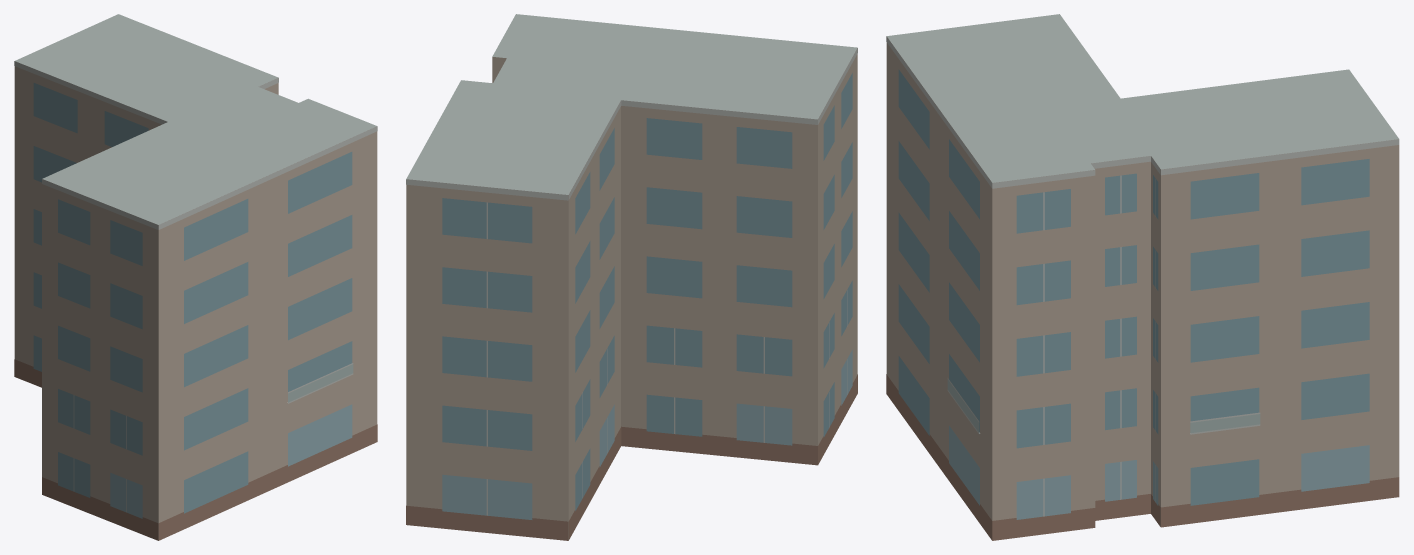
Rendered from survey-upis-32999183.glb.
The picture shows the model from 3 angles, left to right: view 1: azimuth 30°, elevation 25°; view 2: azimuth 150°, elevation 25°; view 3: azimuth 270°, elevation 25°; orthographic projection. The views are drawn at different scales.
Parts seen in each view (by area): view 1: survey-upis-32999183.tmp; view 2: survey-upis-32999183.tmp; view 3: survey-upis-32999183.tmp.
Boxes of the visible parts, <box> form: survey-upis-32999183.tmp: <box>14,14,377,540</box>; survey-upis-32999183.tmp: <box>406,14,857,540</box>; survey-upis-32999183.tmp: <box>886,14,1399,540</box>.
Size of the model in its own units: 15.3 by 15.1 by 19.62.
